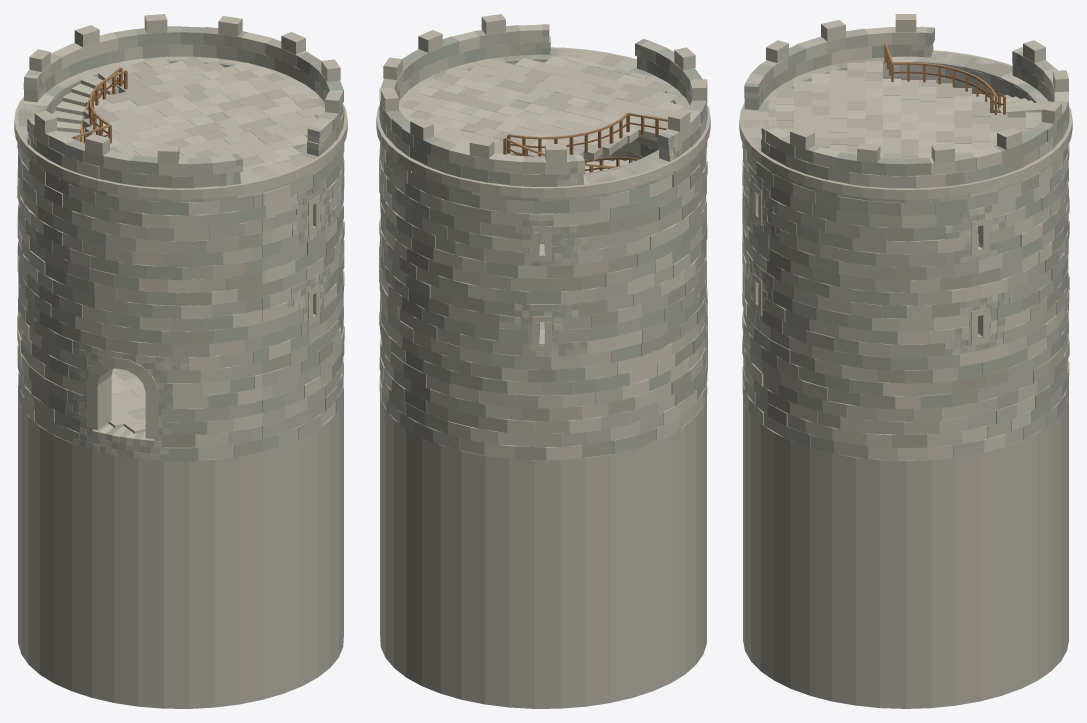
Rendered from Tower_V4_0.glb.
3 views of the same model, side by side, from view 1: azimuth 30°, elevation 25°; view 2: azimuth 150°, elevation 25°; view 3: azimuth 270°, elevation 25° (orthographic).
Parts seen in each view (by area): view 1: Tower_V4_0; view 2: Tower_V4_0; view 3: Tower_V4_0.
Boxes of the visible parts, bbox=[...] form: Tower_V4_0: bbox=[14, 14, 347, 708]; Tower_V4_0: bbox=[376, 14, 710, 708]; Tower_V4_0: bbox=[739, 14, 1072, 708].
Bounding box in the file's own units: 16.84 × 31.07 × 16.84.
